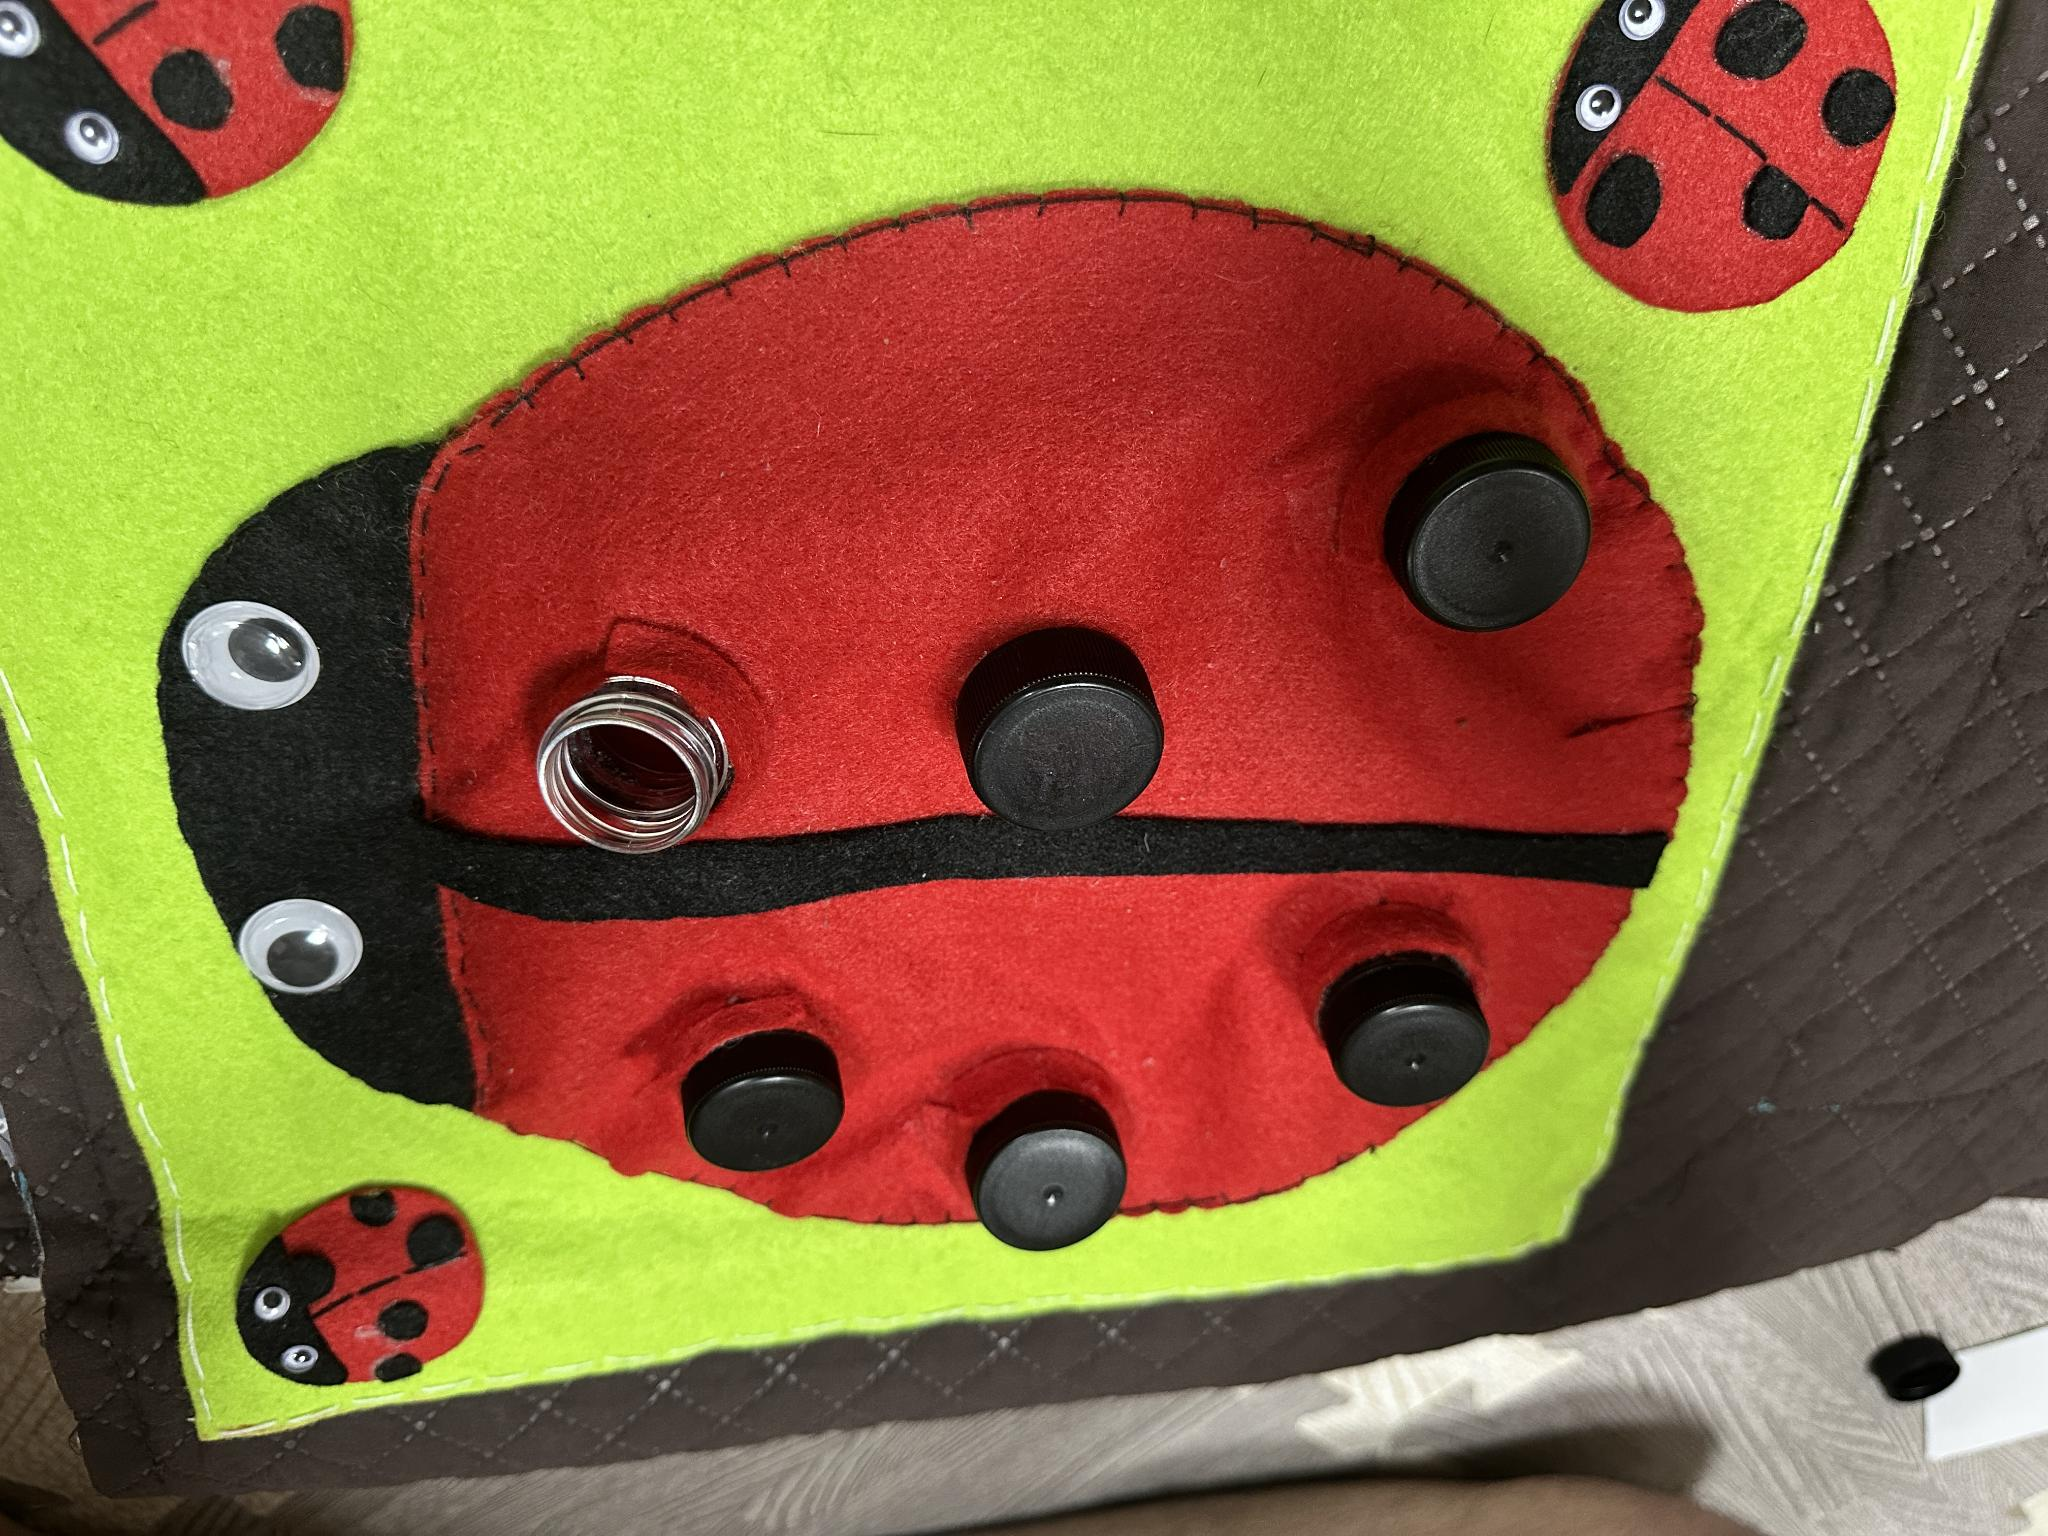cap_ok: (922, 610, 1200, 860), (1366, 397, 1600, 649), (934, 1057, 1168, 1278), (663, 999, 885, 1200), (1311, 908, 1511, 1128)
